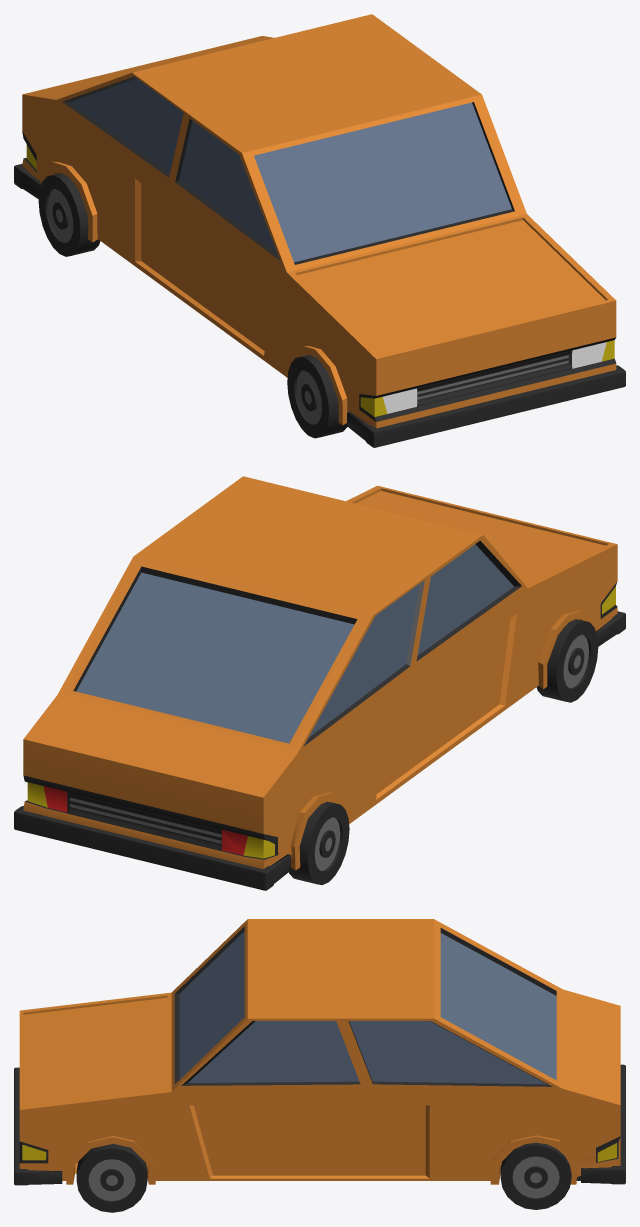
Rendered from Car_Orange.fbx.
3 views of the same model, one above another, from view 1: azimuth 30°, elevation 25°; view 2: azimuth 150°, elevation 25°; view 3: azimuth 270°, elevation 25° (orthographic). The views are drawn at different scales.
Visible parts, largest first — view 1: Car_Orange; view 2: Car_Orange; view 3: Car_Orange.
Part boxes in pixels (box(x1,y1,x2,y2)): Car_Orange: box(14, 14, 625, 447); Car_Orange: box(14, 476, 625, 890); Car_Orange: box(14, 919, 625, 1212).
Size of the model in its own units: 2.22 by 1.75 by 5.16.
